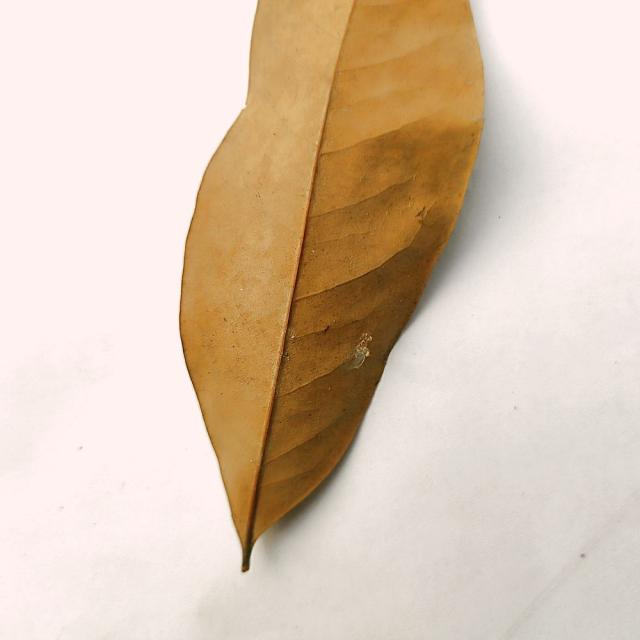Dry_Leaf-Lychee: (178, 0, 487, 573)
